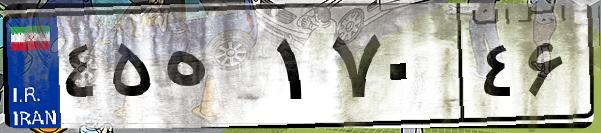0: (385, 28, 445, 110)
1: (270, 28, 330, 110)
4: (57, 26, 110, 100), (475, 38, 525, 113)
5: (110, 28, 158, 98)
6: (525, 38, 570, 115)
7: (330, 28, 385, 110)
ه: (158, 20, 270, 120)
